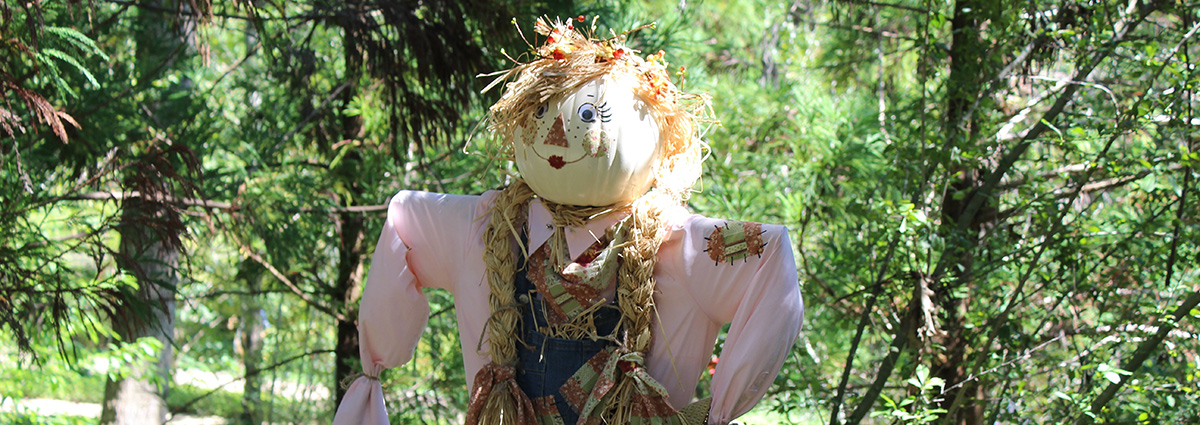person-like: (322, 19, 810, 425)
